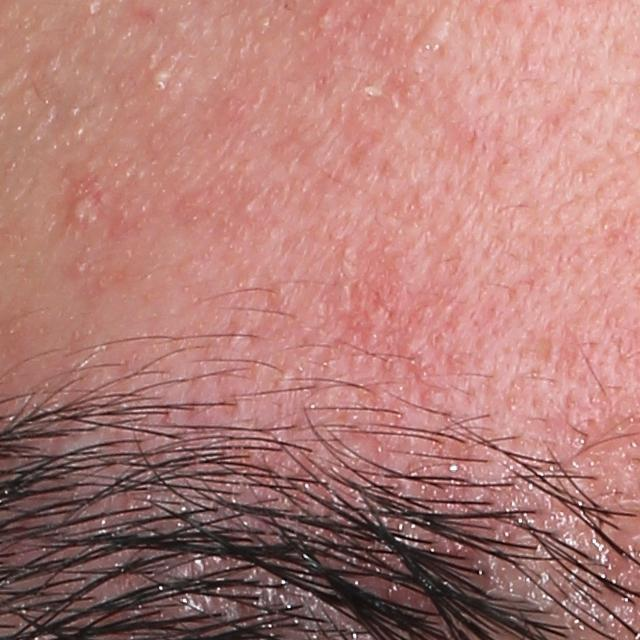comedo: (317, 9, 334, 31)
pustule: (58, 186, 114, 236), (145, 60, 178, 96)
